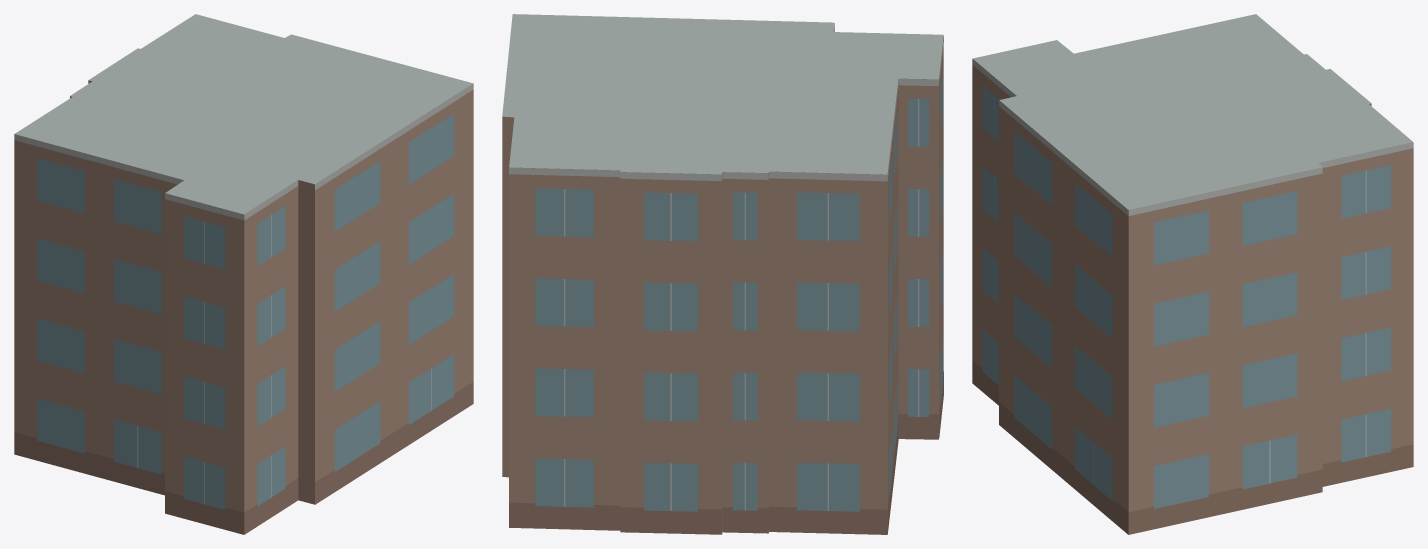
The model's file is survey-upis-32489011.glb.
3 renders of one model, left to right at view 1: azimuth 30°, elevation 25°; view 2: azimuth 150°, elevation 25°; view 3: azimuth 270°, elevation 25°, orthographic. The views are drawn at different scales.
Parts seen in each view (by area): view 1: survey-upis-32489011.tmp; view 2: survey-upis-32489011.tmp; view 3: survey-upis-32489011.tmp.
Boxes of the visible parts, bbox=[...] form: survey-upis-32489011.tmp: bbox=[14, 14, 473, 534]; survey-upis-32489011.tmp: bbox=[502, 14, 943, 534]; survey-upis-32489011.tmp: bbox=[972, 14, 1413, 534].
Bounding box in the file's own units: 16.78 × 12.95 × 15.95.
